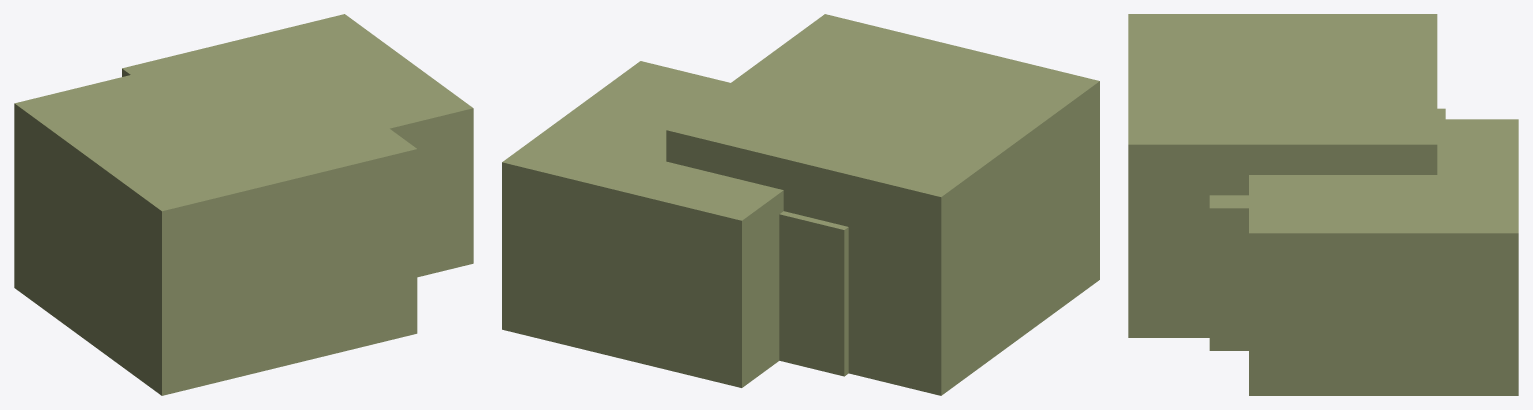
Rendered from bush_dry.gltf.
3 renders of one model, left to right at view 1: azimuth 30°, elevation 25°; view 2: azimuth 150°, elevation 25°; view 3: azimuth 270°, elevation 25°, orthographic. The views are drawn at different scales.
Bounding box in the file's own units: 0.795 × 0.38 × 0.695.
